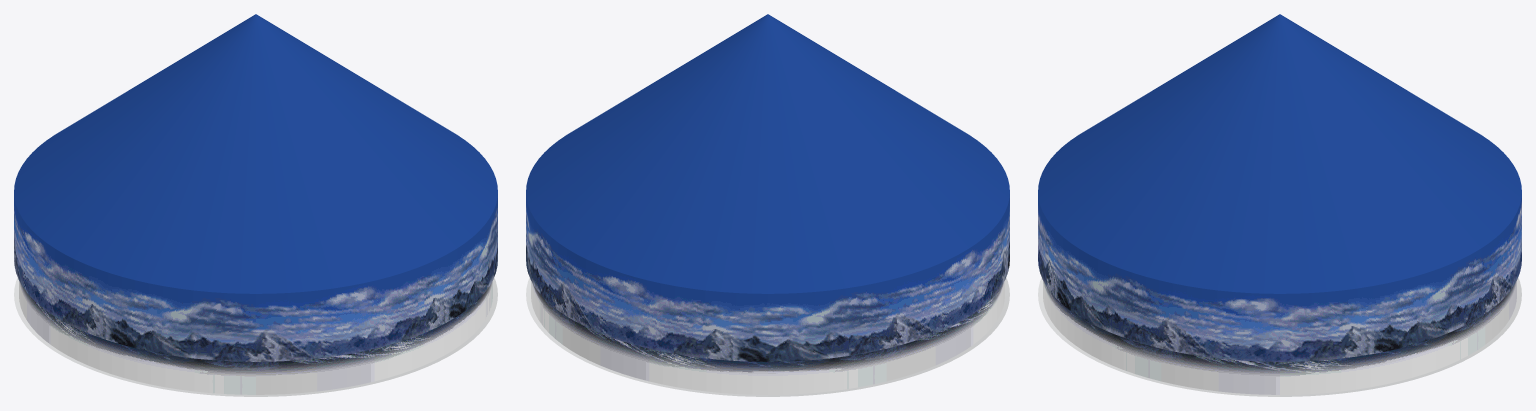
Rendered from sky-al3.glb.
3 views of the same model, side by side, from view 1: azimuth 30°, elevation 25°; view 2: azimuth 150°, elevation 25°; view 3: azimuth 270°, elevation 25° (orthographic).
Visible parts, largest first — view 1: sky-al3; view 2: sky-al3; view 3: sky-al3.
Boxes of the visible parts, bbox=[...] form: sky-al3: bbox=[14, 14, 497, 396]; sky-al3: bbox=[526, 14, 1009, 396]; sky-al3: bbox=[1038, 14, 1521, 396].
Size of the model in its own units: 2 by 1.7 by 2.
Materials: 4 (4 with a texture image).
